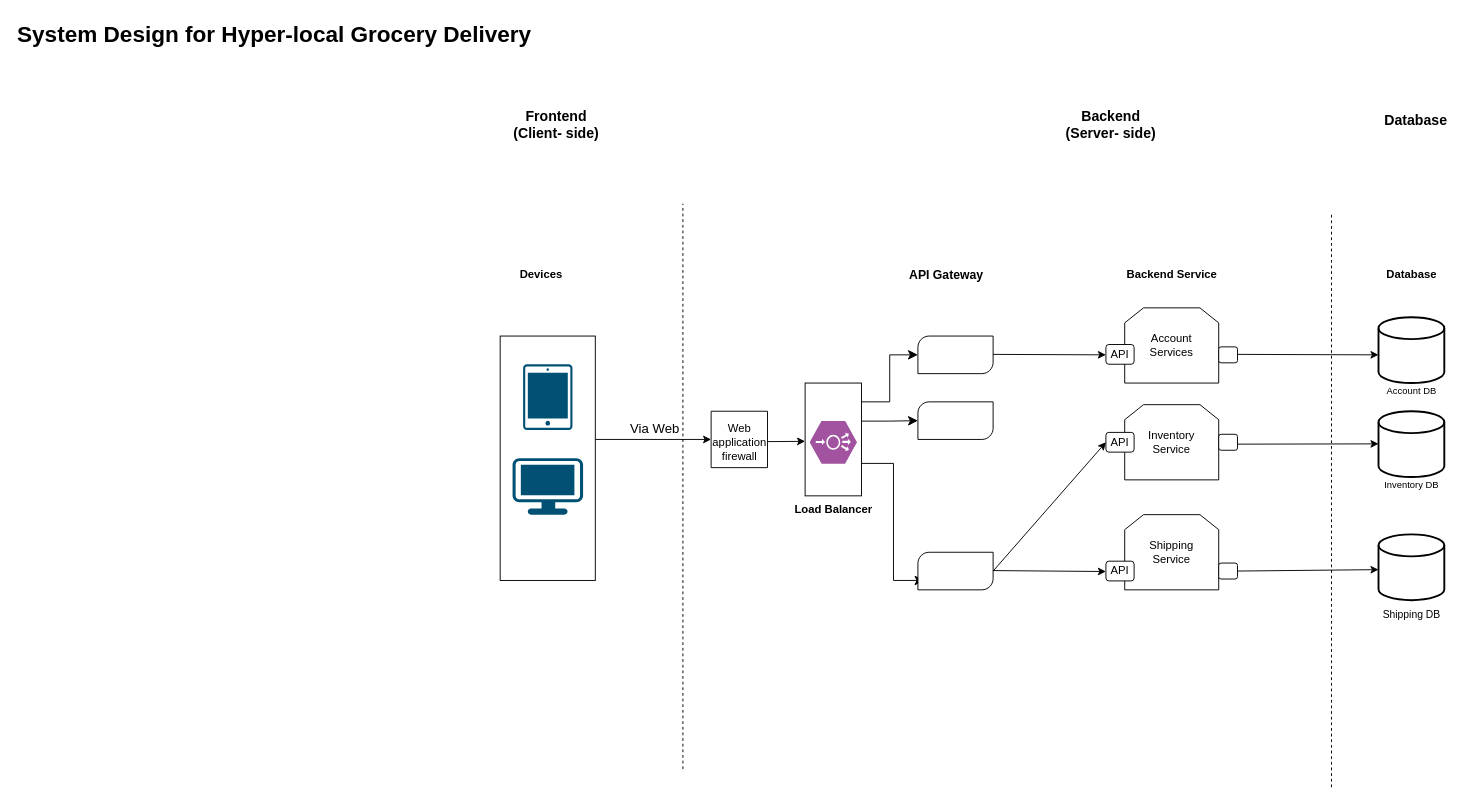
This 1465x805 diagram has some shape labels left out. Here are the shapes that lost their labels. From the top down, the centre of each, then its label:
At pixel 955 354: "Apache Flink API".
At pixel 955 420: "HTTP REST".
At pixel 955 570: "MySQL API".
